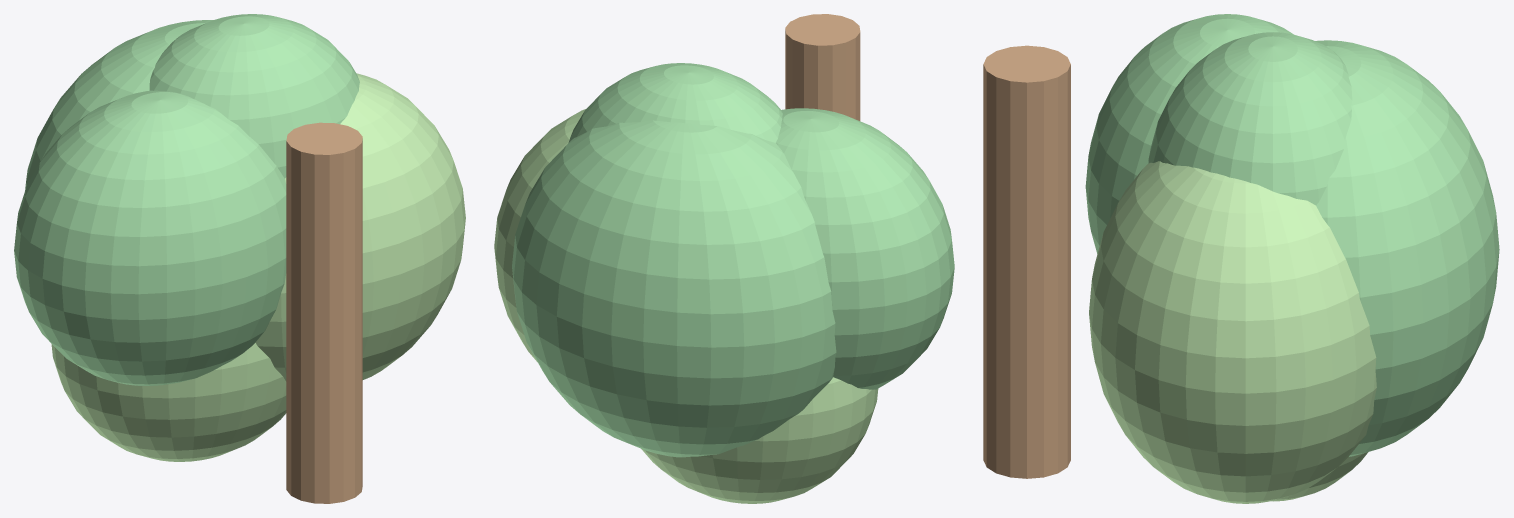
Rendered from tree_apple_mature_no_outline.glb.
3 views of the same model, side by side, from view 1: azimuth 30°, elevation 25°; view 2: azimuth 150°, elevation 25°; view 3: azimuth 270°, elevation 25° (orthographic). The views are drawn at different scales.
Parts seen in each view (by area): view 1: tree_apple_mature_copa_00_no_outline, tree_apple_mature_tronco_no_outline, tree_apple_mature_copa_01_no_outline, tree_apple_mature_copa_04_no_outline, tree_apple_mature_copa_03_no_outline, tree_apple_mature_copa_02_no_outline; view 2: tree_apple_mature_copa_02_no_outline, tree_apple_mature_copa_00_no_outline, tree_apple_mature_copa_03_no_outline, tree_apple_mature_copa_04_no_outline, tree_apple_mature_tronco_no_outline, tree_apple_mature_copa_01_no_outline; view 3: tree_apple_mature_copa_01_no_outline, tree_apple_mature_copa_02_no_outline, tree_apple_mature_tronco_no_outline, tree_apple_mature_copa_04_no_outline, tree_apple_mature_copa_00_no_outline, tree_apple_mature_copa_03_no_outline.
Part boxes in pixels (left/top/right/bottom): tree_apple_mature_copa_00_no_outline: left=14, top=90, right=286, bottom=385; tree_apple_mature_tronco_no_outline: left=286, top=122, right=362, bottom=503; tree_apple_mature_copa_01_no_outline: left=255, top=73, right=465, bottom=381; tree_apple_mature_copa_04_no_outline: left=149, top=14, right=359, bottom=178; tree_apple_mature_copa_03_no_outline: left=51, top=343, right=286, bottom=461; tree_apple_mature_copa_02_no_outline: left=25, top=20, right=213, bottom=190; tree_apple_mature_copa_02_no_outline: left=512, top=120, right=836, bottom=457; tree_apple_mature_copa_00_no_outline: left=776, top=108, right=954, bottom=389; tree_apple_mature_copa_03_no_outline: left=641, top=377, right=878, bottom=503; tree_apple_mature_copa_04_no_outline: left=568, top=63, right=782, bottom=142; tree_apple_mature_tronco_no_outline: left=785, top=14, right=860, bottom=120; tree_apple_mature_copa_01_no_outline: left=494, top=109, right=585, bottom=362; tree_apple_mature_copa_01_no_outline: left=1089, top=161, right=1376, bottom=503; tree_apple_mature_copa_02_no_outline: left=1315, top=40, right=1499, bottom=456; tree_apple_mature_tronco_no_outline: left=983, top=45, right=1070, bottom=478; tree_apple_mature_copa_04_no_outline: left=1148, top=32, right=1352, bottom=205; tree_apple_mature_copa_00_no_outline: left=1085, top=14, right=1293, bottom=253; tree_apple_mature_copa_03_no_outline: left=1270, top=452, right=1368, bottom=501.
Size of the model in its own units: 3.1 by 2.85 by 2.83.
